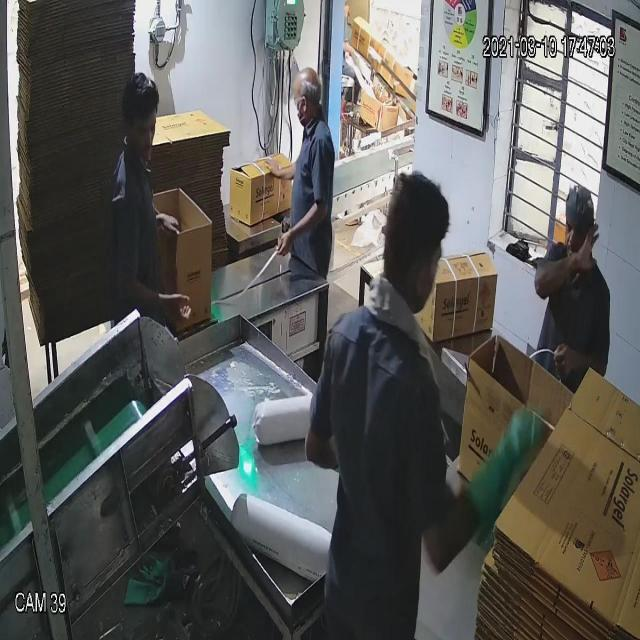No_Gloves: (54, 63, 578, 466)
